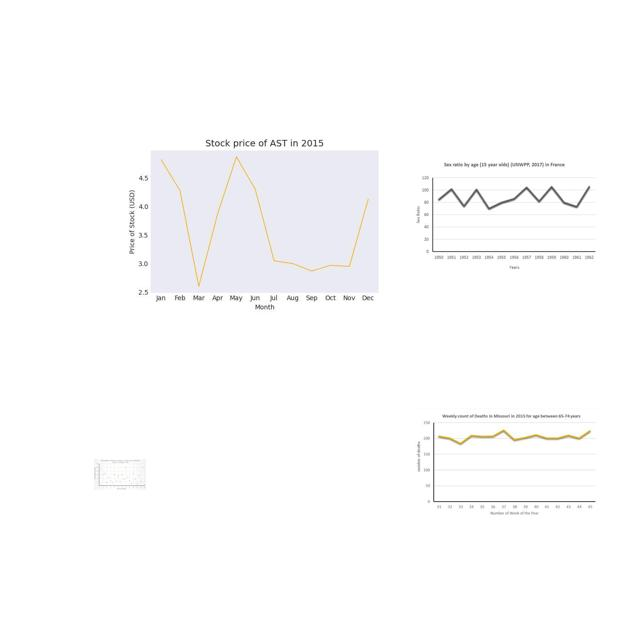Graph: (114, 110, 408, 331), (411, 159, 606, 274), (412, 408, 600, 520), (94, 459, 146, 490)
